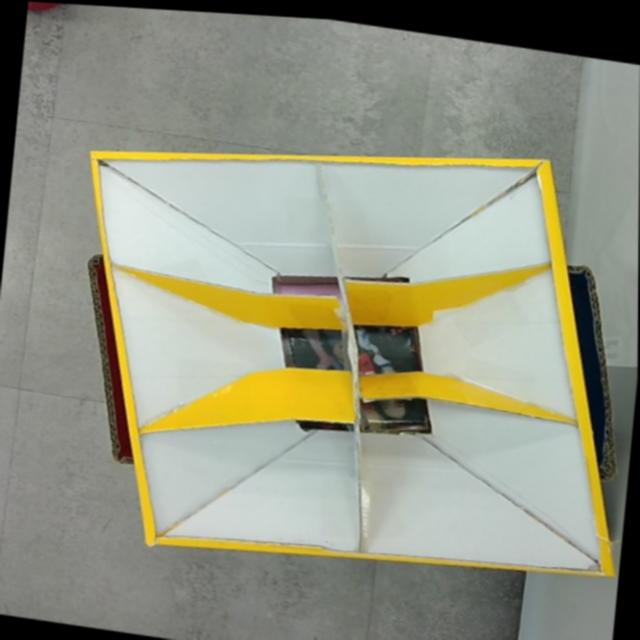box: (51, 89, 639, 607)
